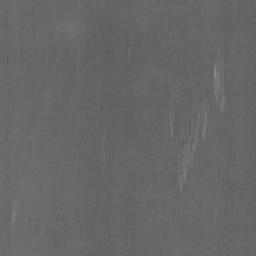Silk spot: (178, 139, 192, 161), (206, 64, 214, 97), (185, 114, 196, 135), (224, 72, 231, 104)
